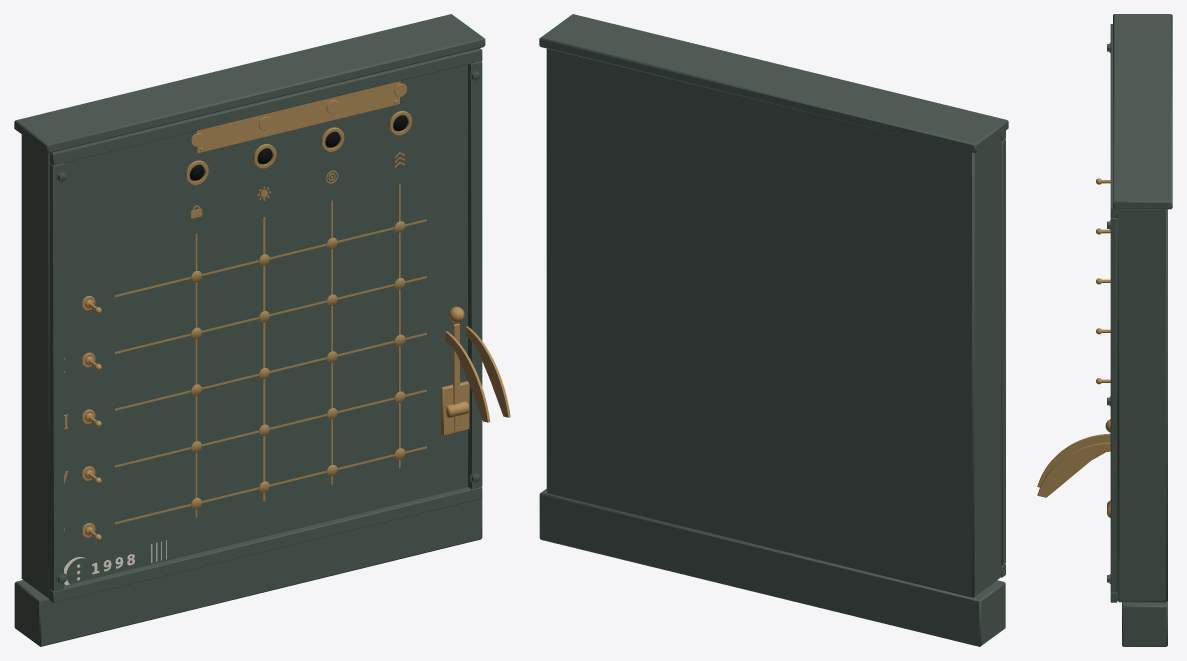
The model's file is panel0.glb.
3 views of the same model, side by side, from view 1: azimuth 30°, elevation 25°; view 2: azimuth 150°, elevation 25°; view 3: azimuth 270°, elevation 25° (orthographic). The views are drawn at different scales.
Parts seen in each view (by area): view 1: panel_body, panel_brass, IA_main_lever; view 2: panel_body; view 3: panel_body, panel_brass.
Part boxes in pixels (left/top/right/bottom): panel_body: left=14, top=14, right=485, bottom=646; panel_brass: left=64, top=81, right=510, bottom=537; IA_main_lever: left=446, top=306, right=469, bottom=431; panel_body: left=539, top=14, right=1008, bottom=646; panel_body: left=1107, top=14, right=1172, bottom=646; panel_brass: left=1037, top=433, right=1110, bottom=497.
Size of the model in its own units: 1.96 by 2.14 by 0.5884.
